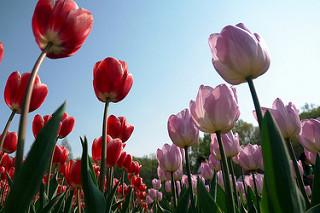tulip: (207, 22, 271, 83), (31, 1, 94, 59), (188, 83, 240, 133), (3, 71, 48, 114), (93, 57, 133, 103), (91, 134, 123, 167), (155, 143, 181, 172), (107, 114, 134, 141)
